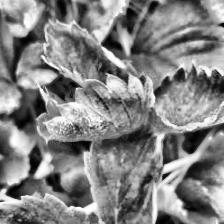Powdery Mildew Leaf: (35, 73, 155, 144), (42, 20, 140, 87), (148, 60, 224, 137), (0, 193, 115, 224)
